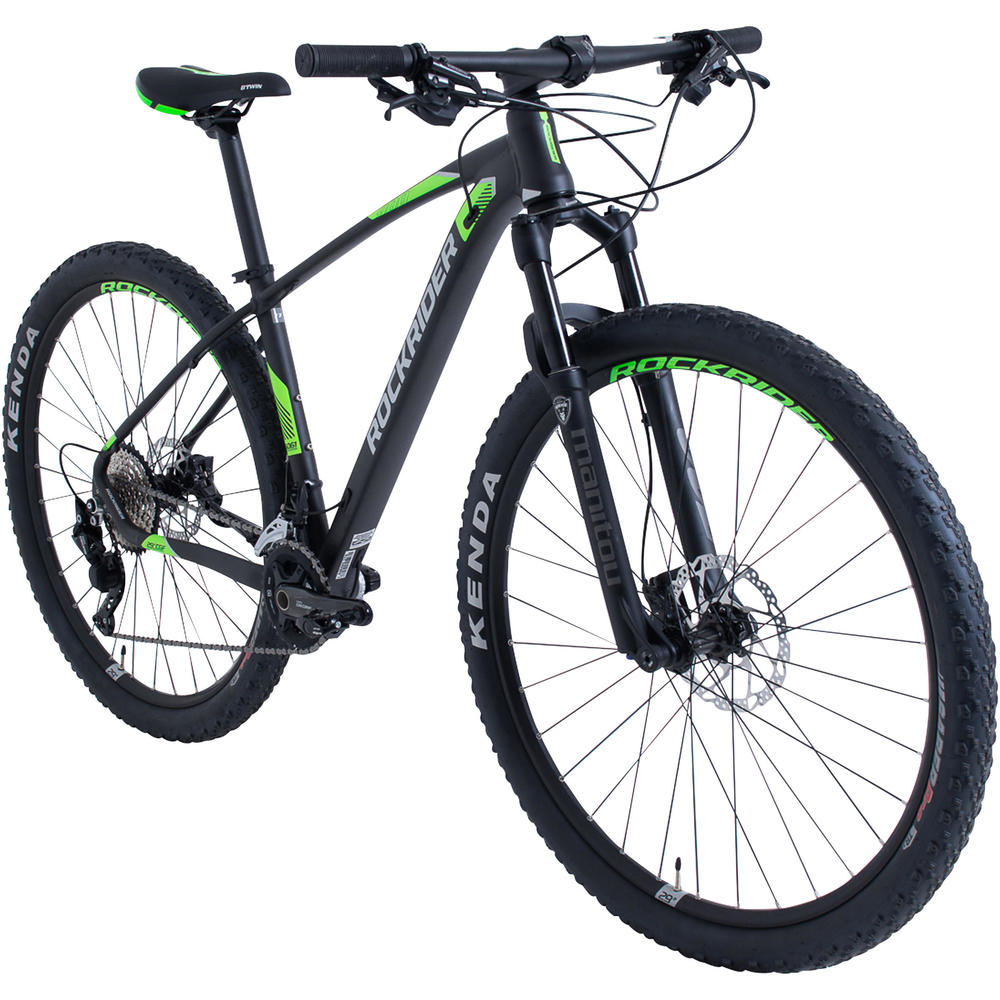MountainBike: (6, 19, 995, 984)
